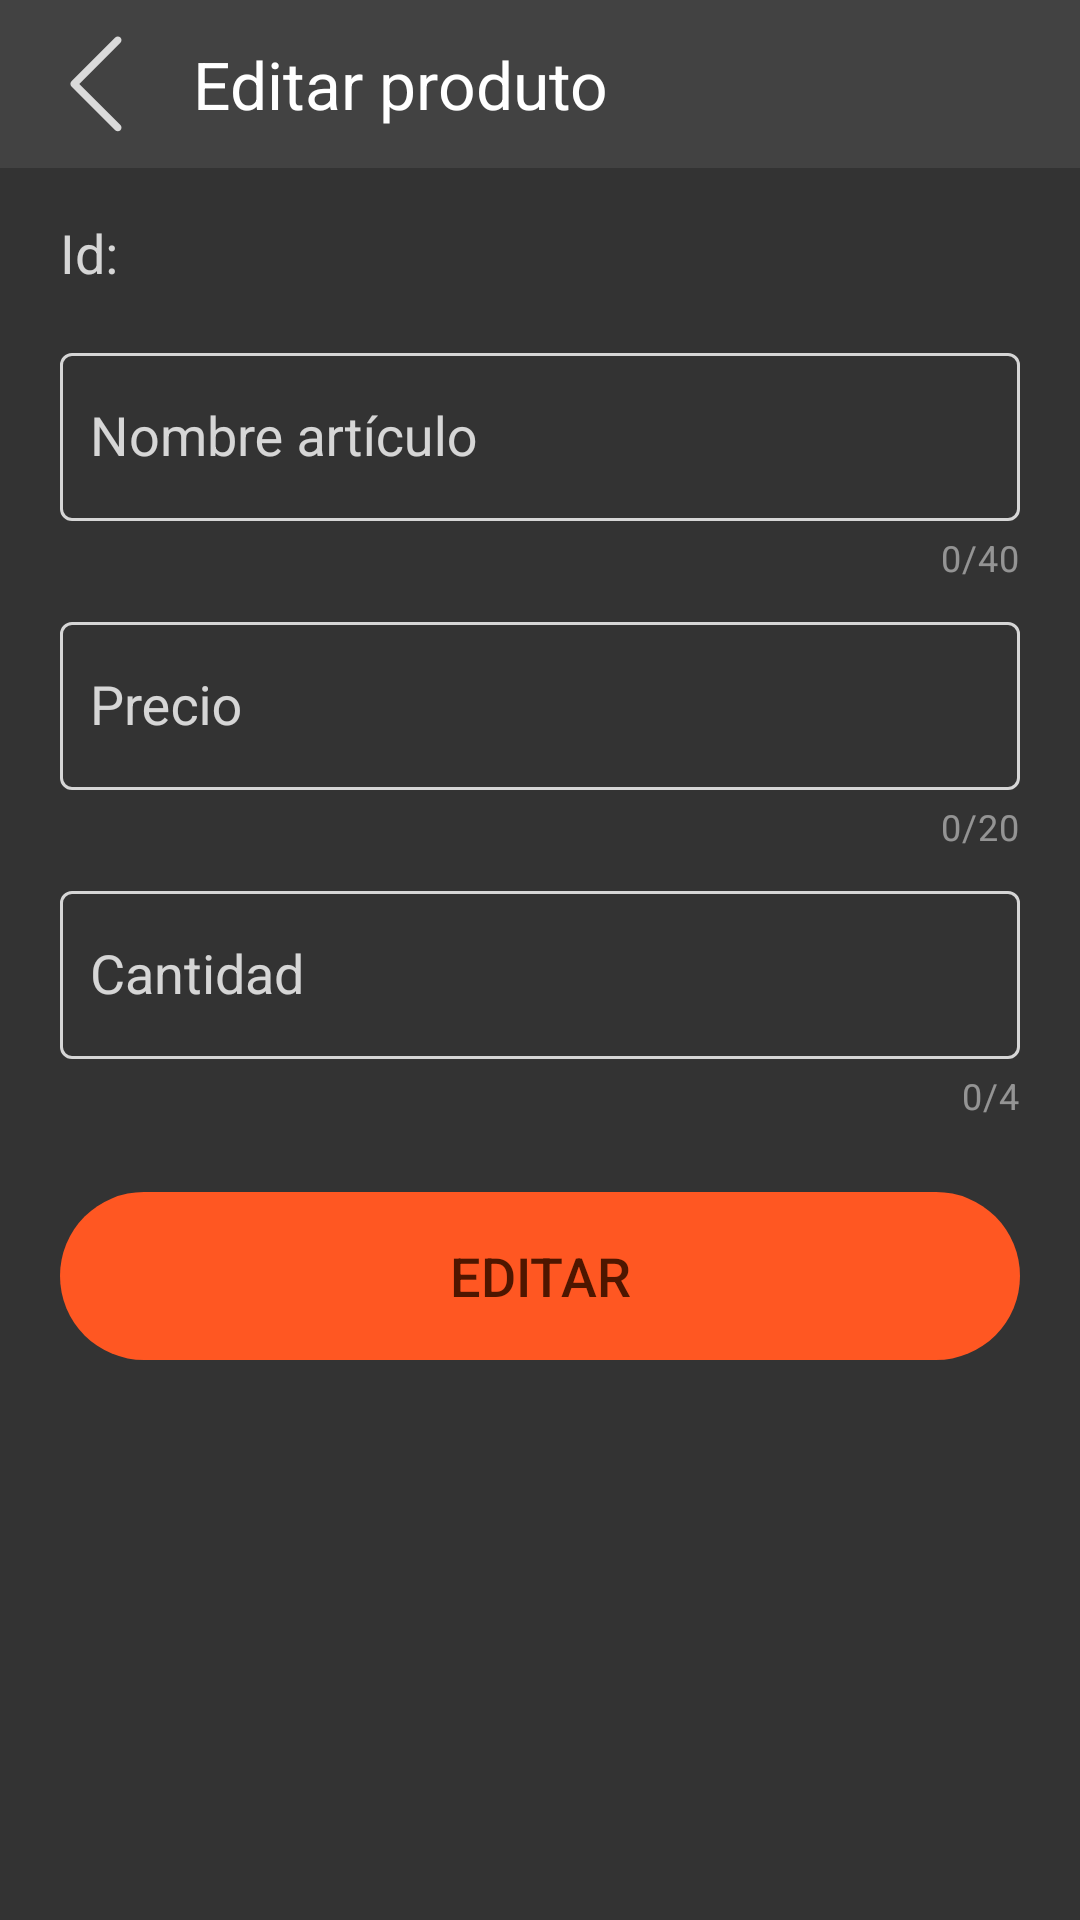

Locate icon controls on the screen. Image size 1080*1920, boxes as bbox(x1, y1, x2, y2).
left: bbox(70, 36, 122, 132)
